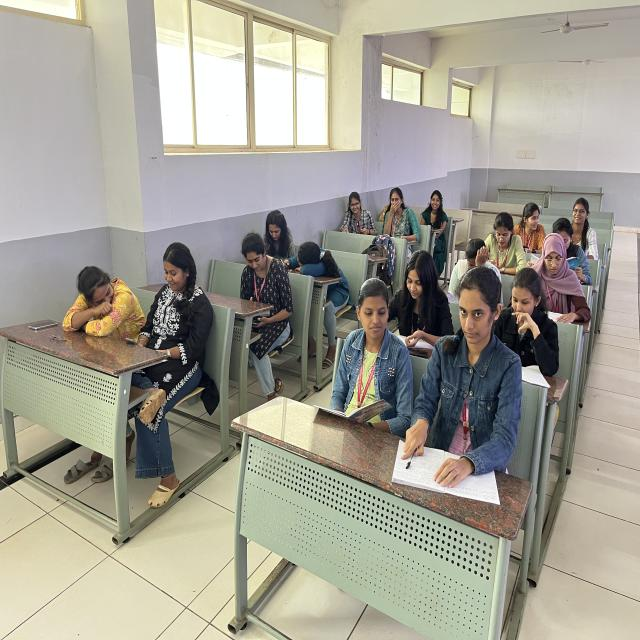Reading: (327, 274, 408, 422), (530, 230, 588, 326), (542, 214, 590, 284)
Sleeping: (60, 258, 146, 348), (276, 235, 356, 300)
Using Phone: (122, 233, 215, 389), (232, 231, 294, 336)
Writing: (390, 266, 516, 501), (382, 246, 450, 347), (477, 208, 531, 278)
